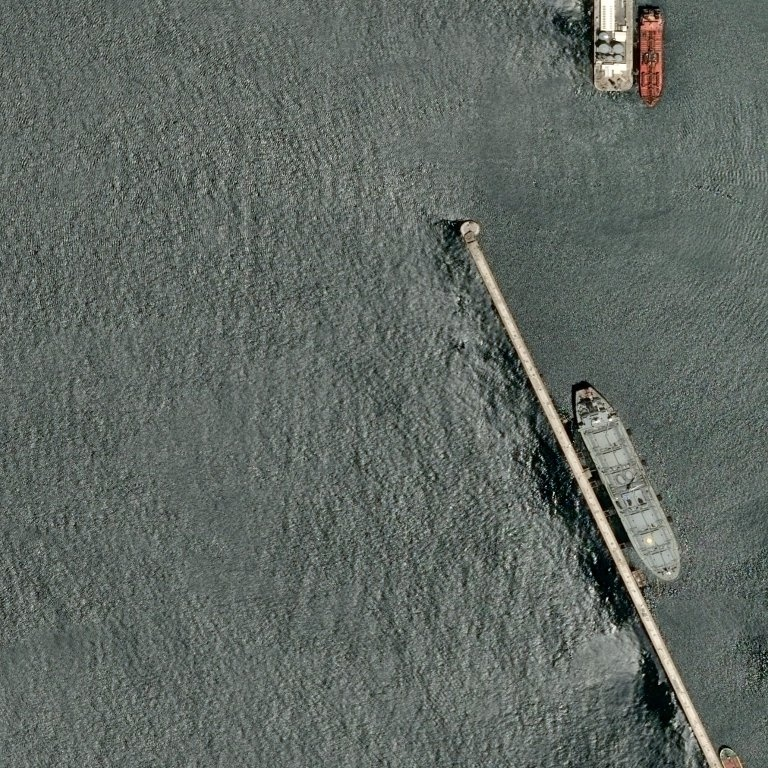ship: (575, 387, 680, 579), (591, 1, 636, 90), (637, 7, 663, 105)
